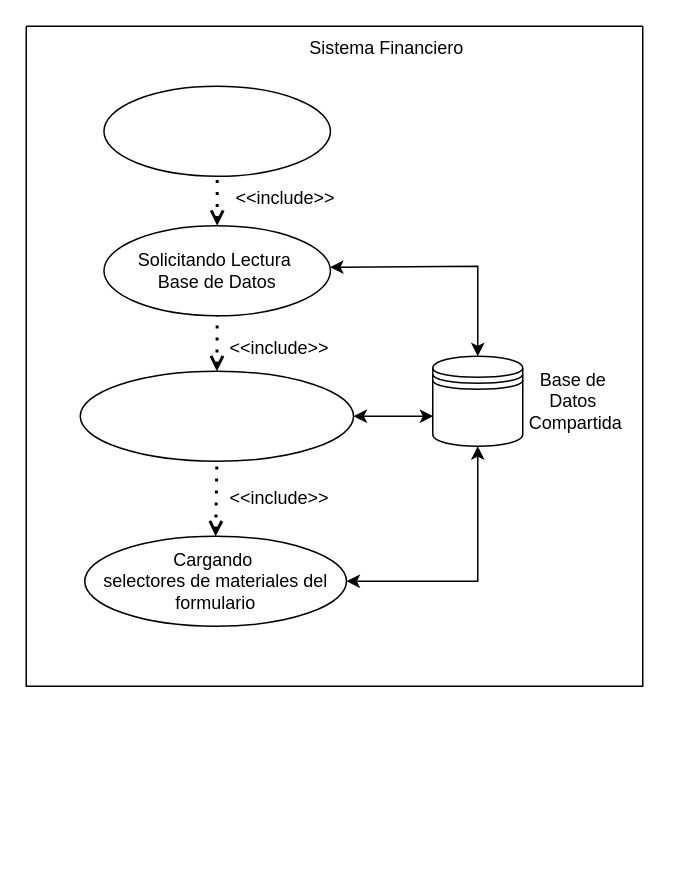
Image size: 686x884. Some labels were removed from this diagram. The shapes that lost their labels are listed below. From the top down, each one's box as (x1, y1, x2, y2) in pixels, then its label:
(102, 85, 330, 176): Consultando costos de inventario
(79, 370, 354, 461): Extrayendo catálogo materiales junto a campo "Costo Unitario"
